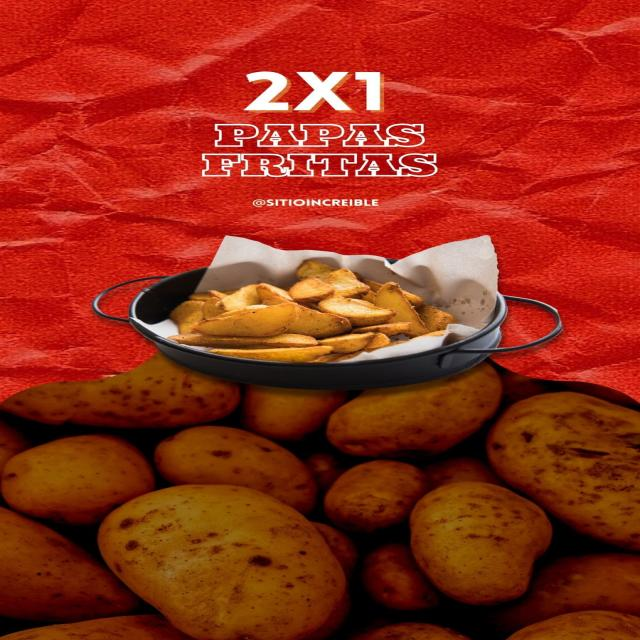papa: (173, 283, 471, 361)
